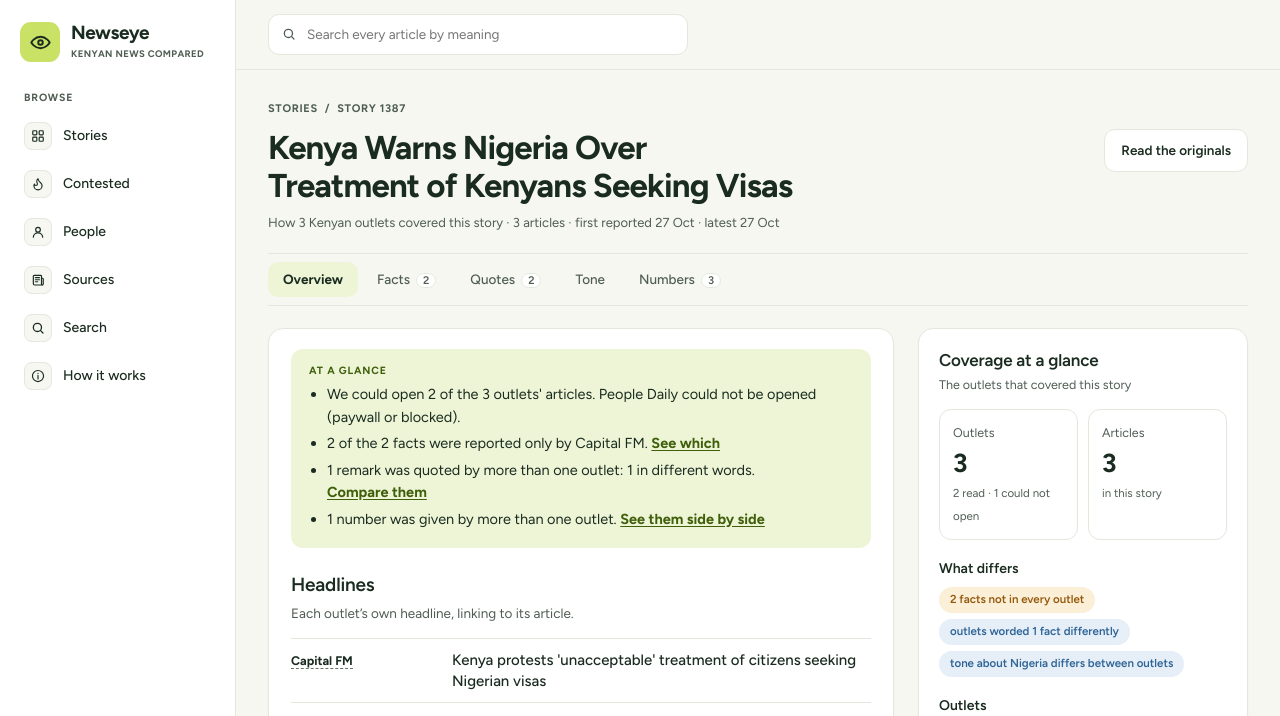
it: a story page › a link in the overview opens its tab
Click the button "See them side by side": (692, 519) [620, 508, 765, 530]
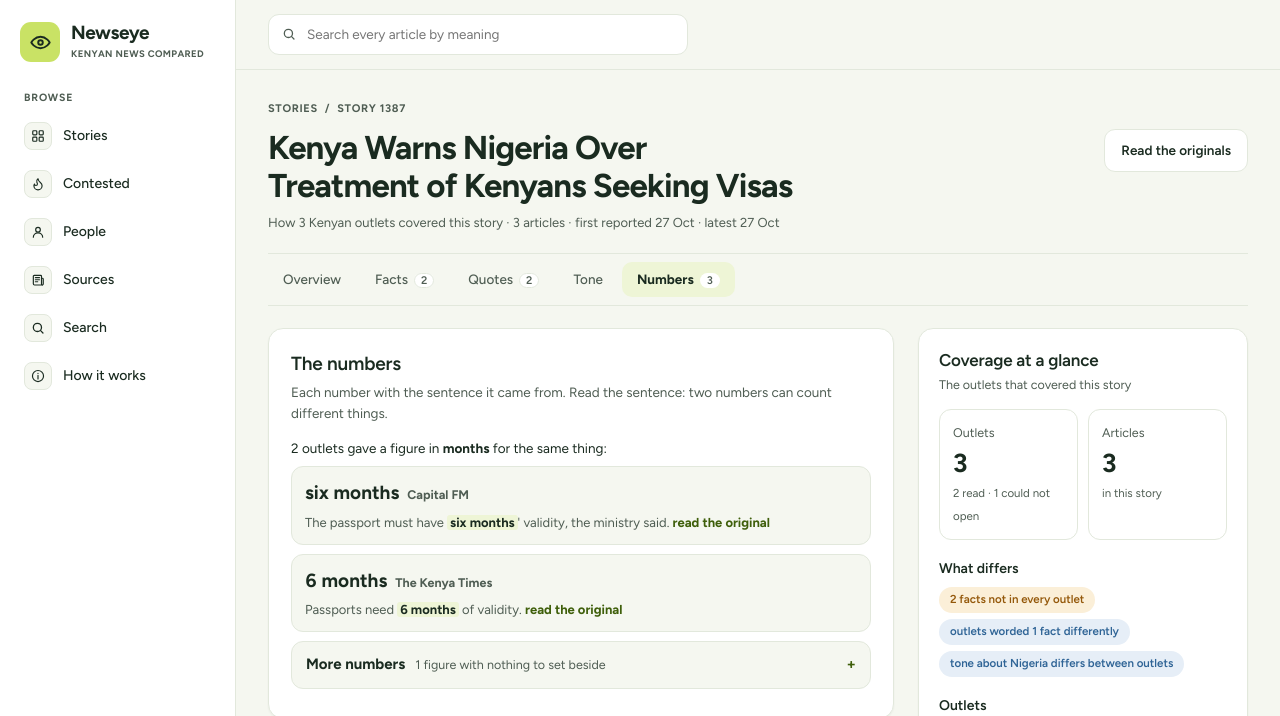
Now the text "2 outlets gave a figure in" is shown, box [291, 440, 607, 456]
